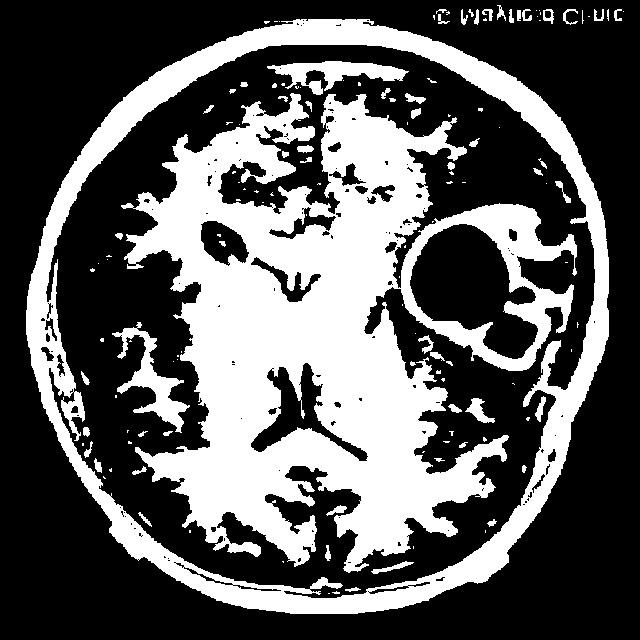Brain-Tumor: (401, 205, 584, 382)
